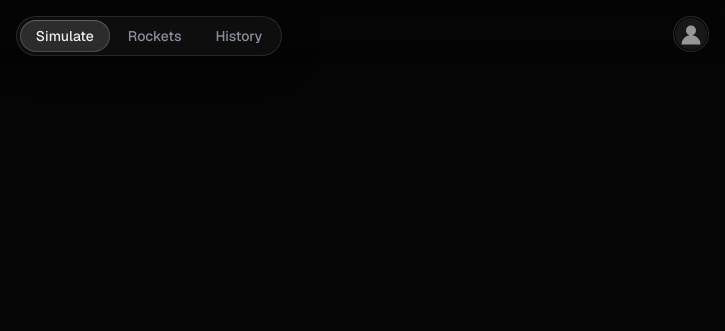
AccountMenu › sends Firebase's password reset email to the signed-in address, in the current language
Click the button named "Account" at (691, 34), box [673,16,709,52]
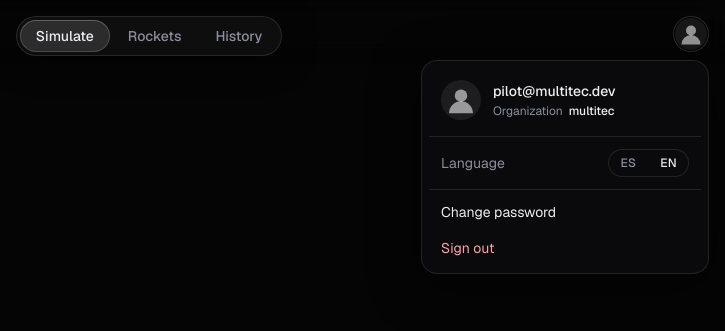
Click the button "Change password" at (499, 212), box [429,194,701,230]
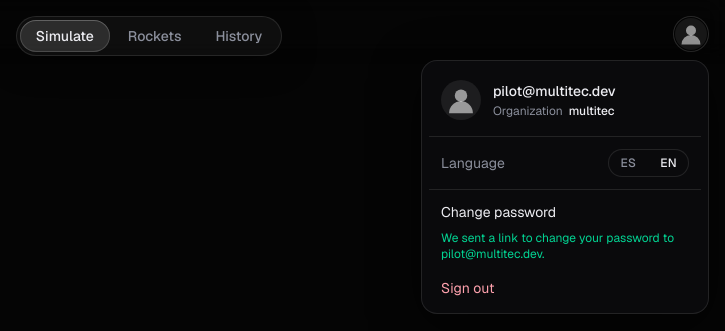
Check: the text "We sent a link to change your password to pilot@multitec.dev." is shown, box [429,230,701,270]
